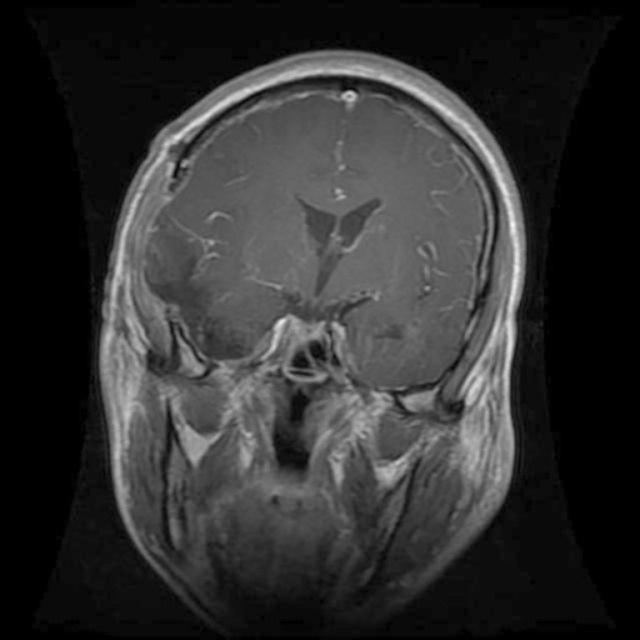pituitary tumor: (272, 313, 338, 362)
